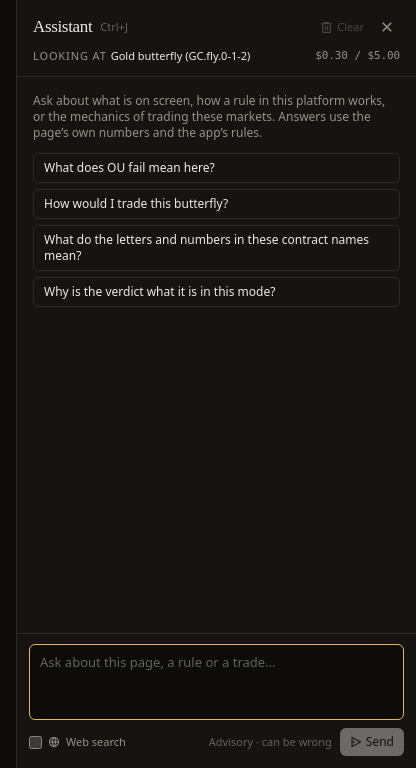
Test: AssistantPanel › shows what it is looking at, sends the page context and renders the streamed markdown with its cost
Expected: the text "Gold butterfly (GC.fly.0-1-2)" is shown, [111,48,250,63]
Click the button "What does OU fail mean here?" at (216, 168), box [33,153,400,183]
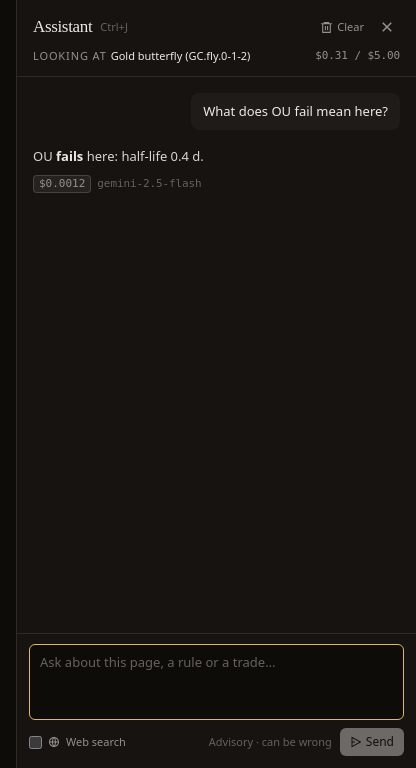
Now the text "$0.0012" is shown, box [39,176,85,192]
Now the text "OU fails here: half-life 0.4 d." is shown, box [33,147,204,165]
